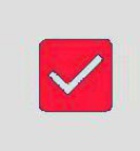CheckBox: (1, 1, 139, 150)
